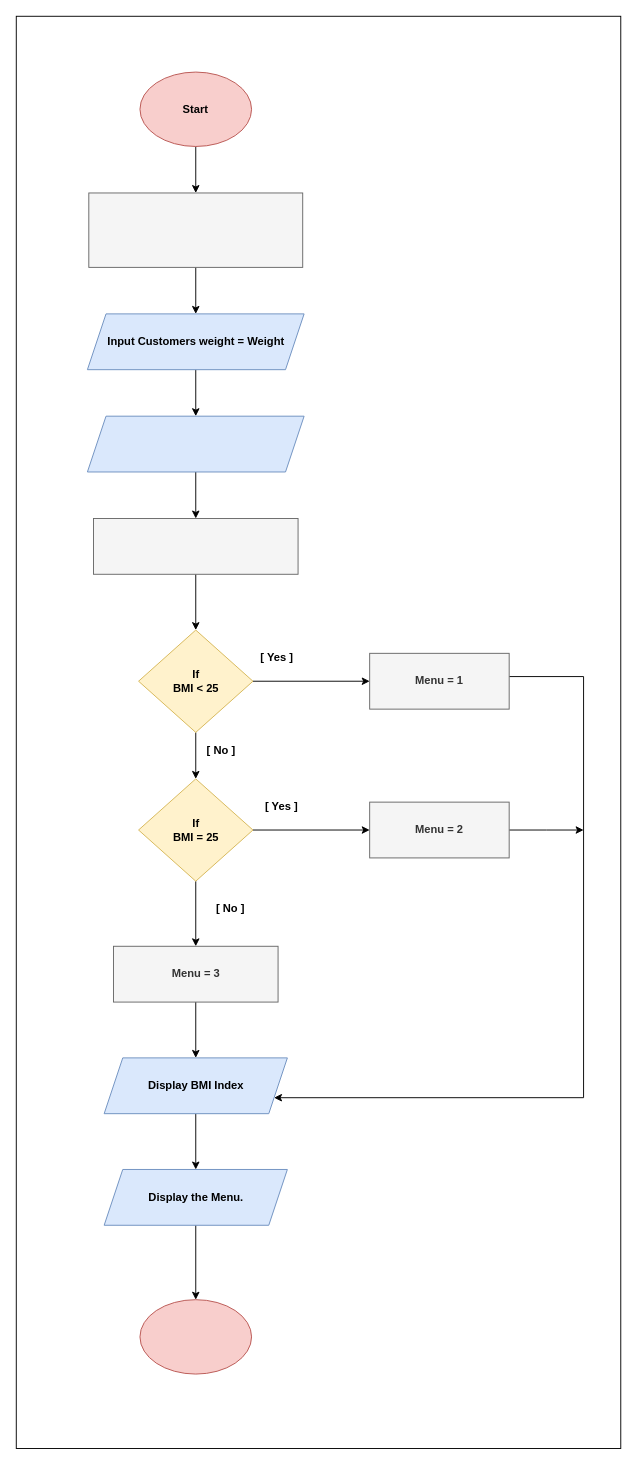
This 637x1465 diagram has some shape labels left out. Each missing label, with the box of its shape:
BMI = 0 Height = 0 Weight =0 Menu =0: (88, 192, 303, 267)
Calculate the BMI BMI = Weight / Height 2: (93, 518, 298, 574)
End: (139, 1299, 252, 1374)
Input Customers height = Height: (86, 415, 304, 472)
